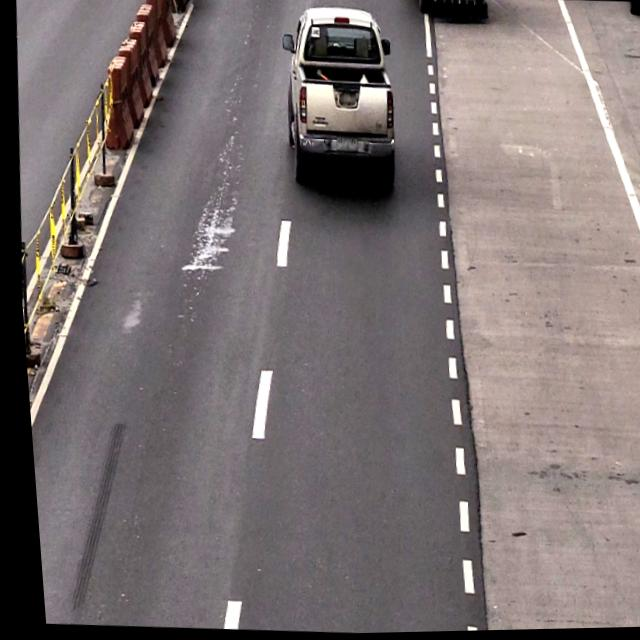Car: (275, 5, 405, 198)
